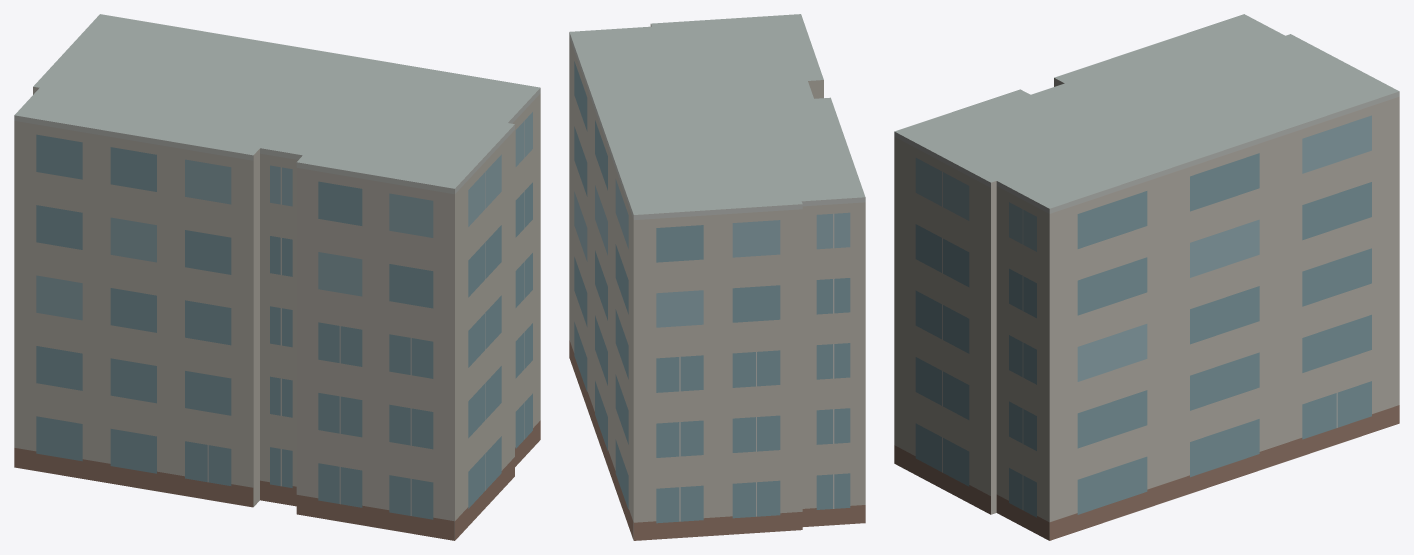
Rendered from survey-upis-32996172.glb.
The picture shows the model from 3 angles, left to right: view 1: azimuth 30°, elevation 25°; view 2: azimuth 150°, elevation 25°; view 3: azimuth 270°, elevation 25°; orthographic projection. The views are drawn at different scales.
Parts seen in each view (by area): view 1: survey-upis-32996172.tmp; view 2: survey-upis-32996172.tmp; view 3: survey-upis-32996172.tmp.
Part boxes in pixels (x1,y1,x2,y2): survey-upis-32996172.tmp: [14, 14, 540, 540]; survey-upis-32996172.tmp: [569, 14, 865, 540]; survey-upis-32996172.tmp: [894, 14, 1399, 540].
Bounding box in the file's own units: 19.63 × 15.6 × 21.52.
